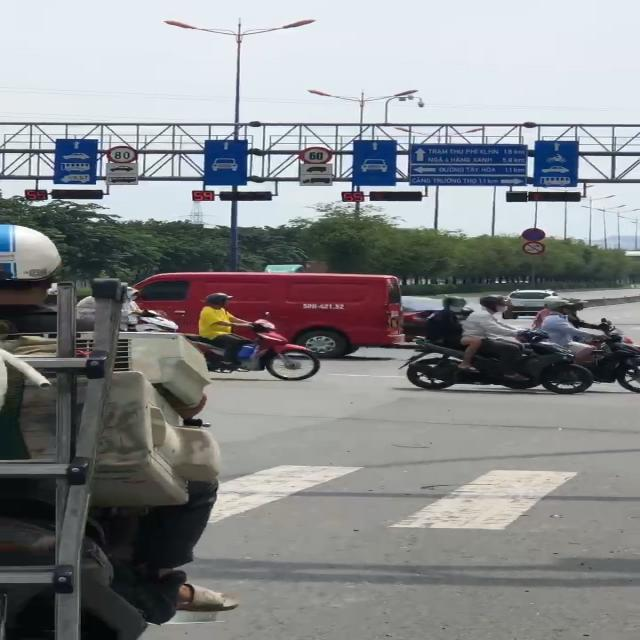Bien bao toc do toi da cho phep: (102, 144, 146, 164), (297, 145, 334, 167)
